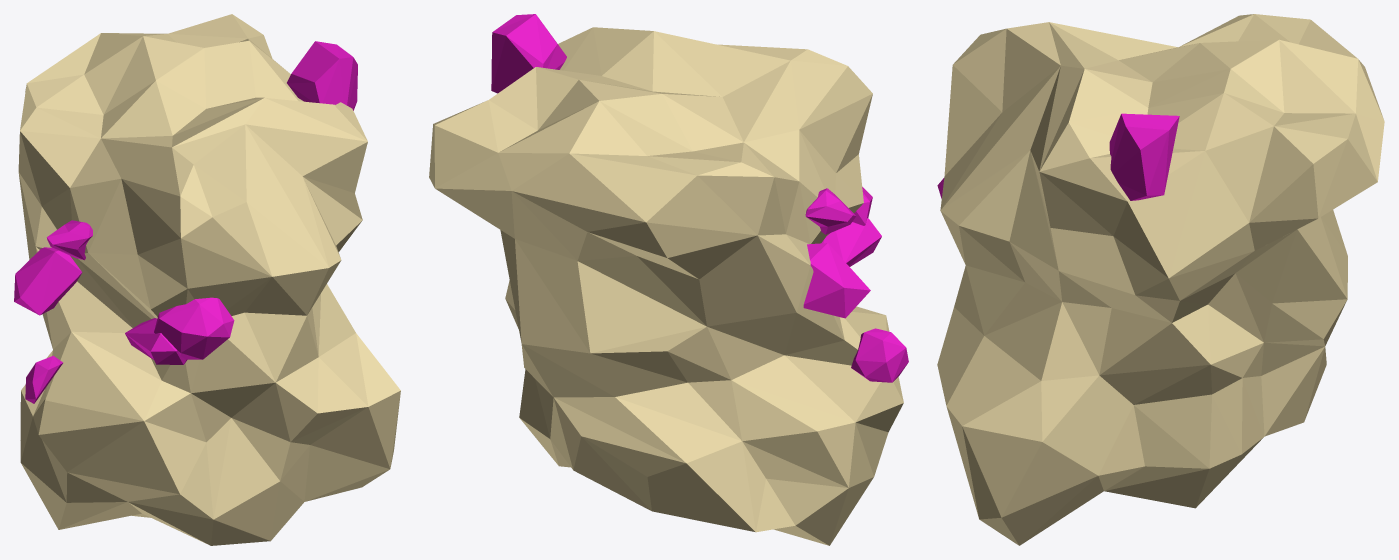
The model's file is CrystalOre (10).fbx.
3 views of the same model, side by side, from view 1: azimuth 30°, elevation 25°; view 2: azimuth 150°, elevation 25°; view 3: azimuth 270°, elevation 25° (orthographic). The views are drawn at different scales.
Parts seen in each view (by area): view 1: Asteroid230; view 2: Asteroid230; view 3: Asteroid230.
Boxes of the visible parts, x1,y1,x2,y2 form: Asteroid230: [14, 14, 400, 545]; Asteroid230: [429, 14, 908, 545]; Asteroid230: [937, 14, 1384, 545].
Size of the model in its own units: 301 by 334 by 286.
